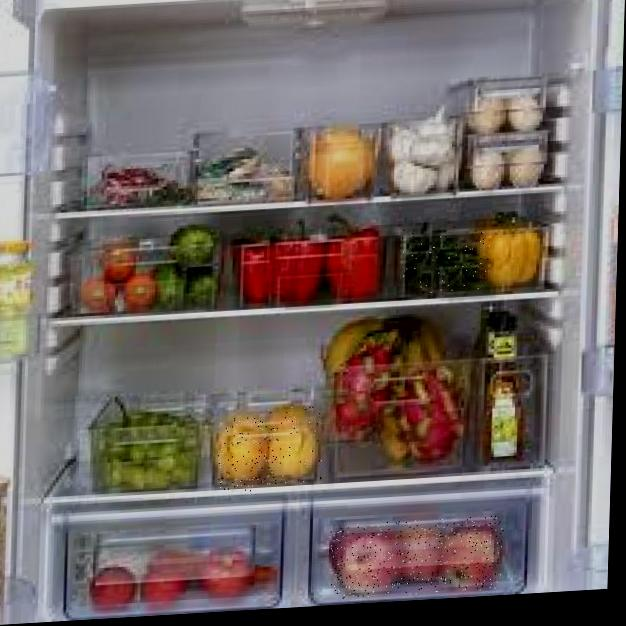apple: (328, 516, 504, 600)
banana: (311, 316, 470, 374)
carrots: (78, 244, 153, 314)
eggs: (456, 83, 567, 186)
green beans: (399, 224, 492, 295)
lemon: (260, 404, 325, 485), (217, 416, 279, 493)
